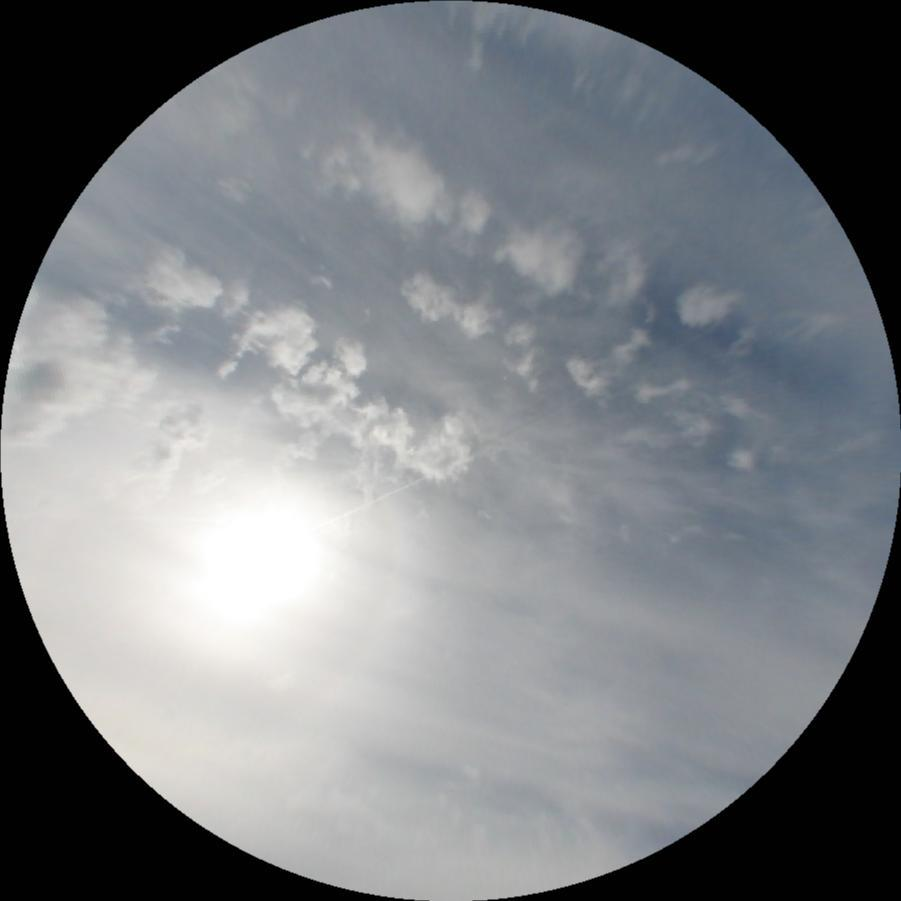contrail young: (308, 325, 718, 536)
sun: (171, 489, 334, 639)
